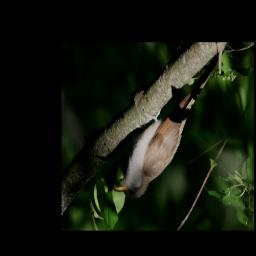Cuckoo: (113, 50, 223, 199)
